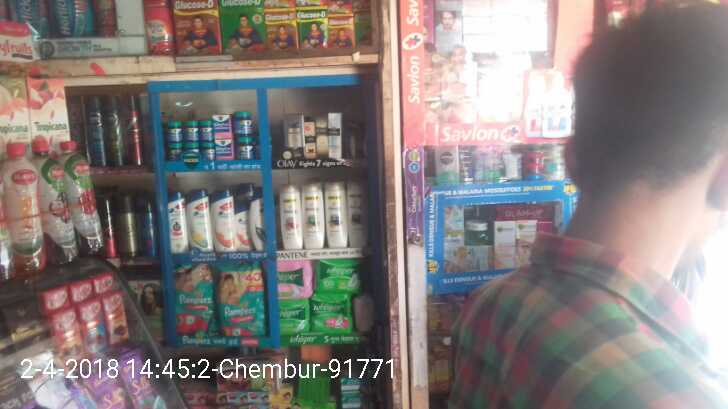vicks: (166, 109, 256, 161)
